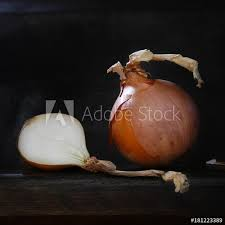onion: (106, 61, 201, 168), (16, 113, 94, 174)
